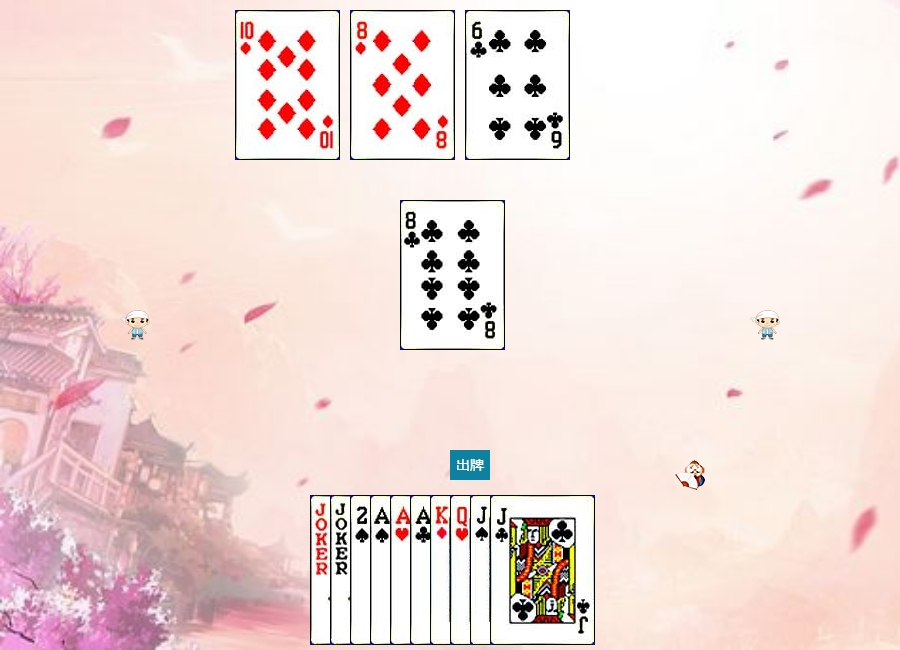10~1: (235, 10, 340, 160)
11~2: (490, 495, 595, 645)
11~4: (470, 495, 575, 645)
12~3: (450, 495, 555, 645)
13~1: (430, 495, 535, 645)
14~2: (410, 495, 515, 645)
14~3: (390, 495, 495, 645)
14~4: (370, 495, 475, 645)
15~4: (350, 495, 455, 645)
17~3: (330, 495, 435, 645)
18~4: (310, 495, 415, 645)
6~2: (465, 10, 570, 160)
8~1: (350, 10, 455, 160)
8~2: (400, 200, 505, 350)
